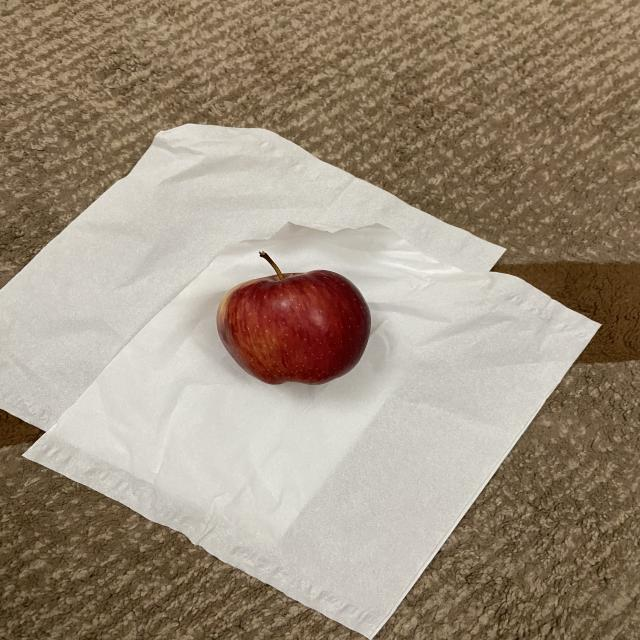apple: (214, 248, 374, 390)
